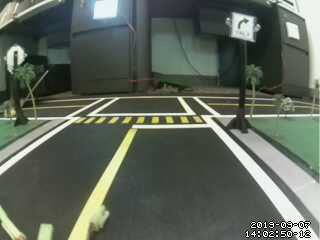Right_only_sign: (231, 12, 256, 45)
